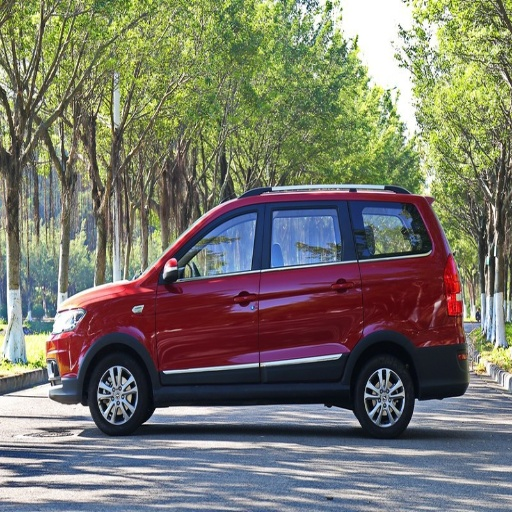back_left_door: (259, 200, 366, 382)
front_left_door: (155, 201, 266, 385)
trunk: (406, 325, 452, 389)
